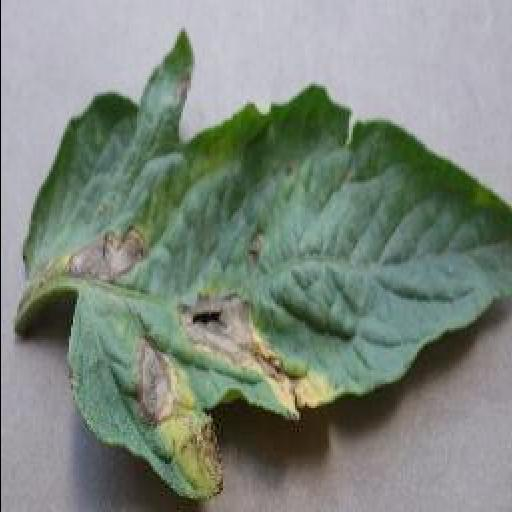Early Blight: (24, 34, 510, 495)
